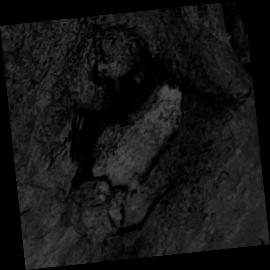crack: (0, 1, 269, 270)
